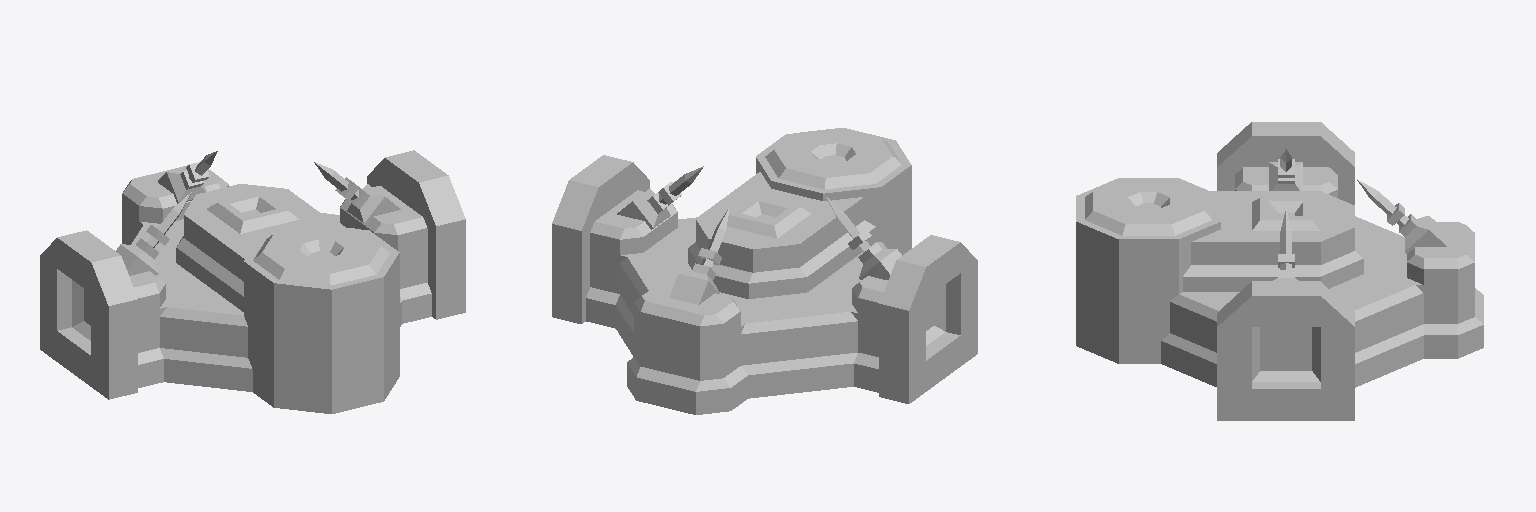
The model's file is grand_circle_fabrication_body.obj.
3 views of the same model, side by side, from view 1: azimuth 30°, elevation 25°; view 2: azimuth 150°, elevation 25°; view 3: azimuth 270°, elevation 25° (orthographic).
Visible parts, largest first — view 1: GRAND_CIRCLE_OF_FABRICATION_BODY_Plane.004; view 2: GRAND_CIRCLE_OF_FABRICATION_BODY_Plane.004; view 3: GRAND_CIRCLE_OF_FABRICATION_BODY_Plane.004.
Part boxes in pixels (x1,y1,x2,y2): GRAND_CIRCLE_OF_FABRICATION_BODY_Plane.004: (40, 150, 465, 413); GRAND_CIRCLE_OF_FABRICATION_BODY_Plane.004: (552, 128, 977, 414); GRAND_CIRCLE_OF_FABRICATION_BODY_Plane.004: (1076, 122, 1483, 420).
Bounding box in the file's own units: 3 × 1.24 × 2.97.